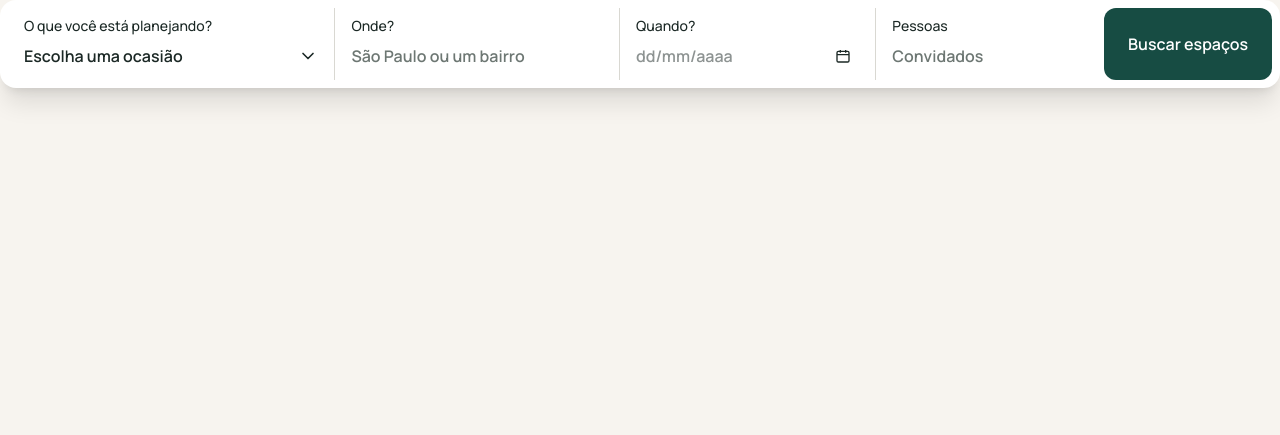
Scenario: VenueSearch › opens the desktop occasion menu downward and selects an occasion
Click the button "Escolha uma ocasião".
click(171, 56)  # box 24,40 -> 318,72
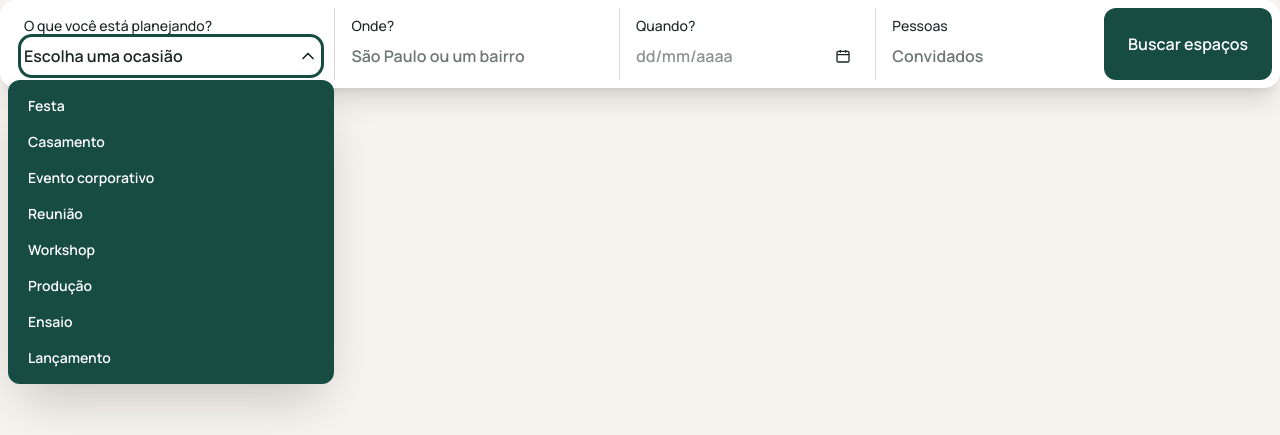
Click the option "Festa".
click(46, 106)  # box 16,88 -> 326,124
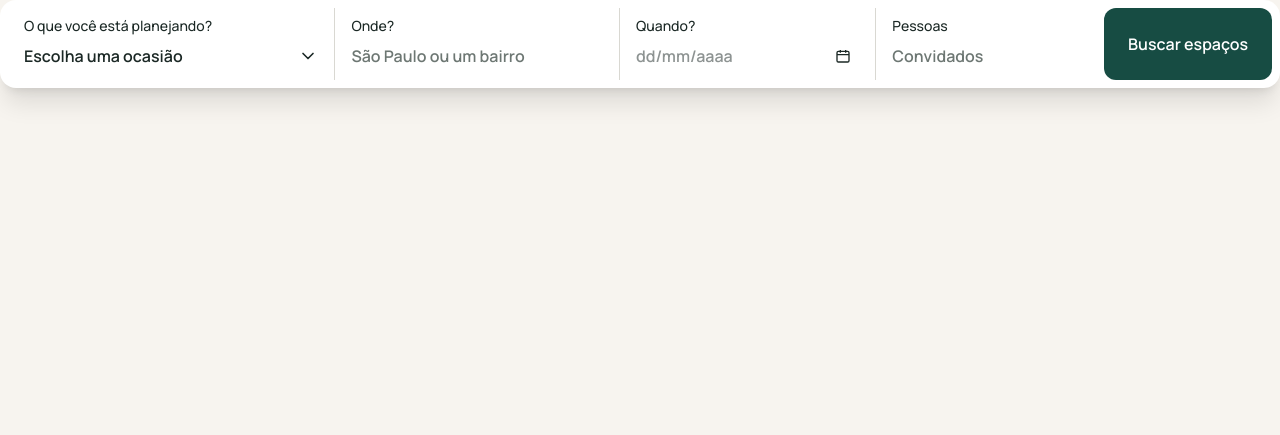
Check: the list is gone
